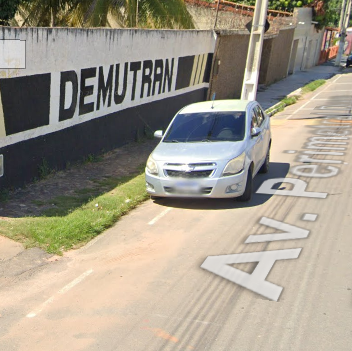car: (140, 90, 283, 214)
